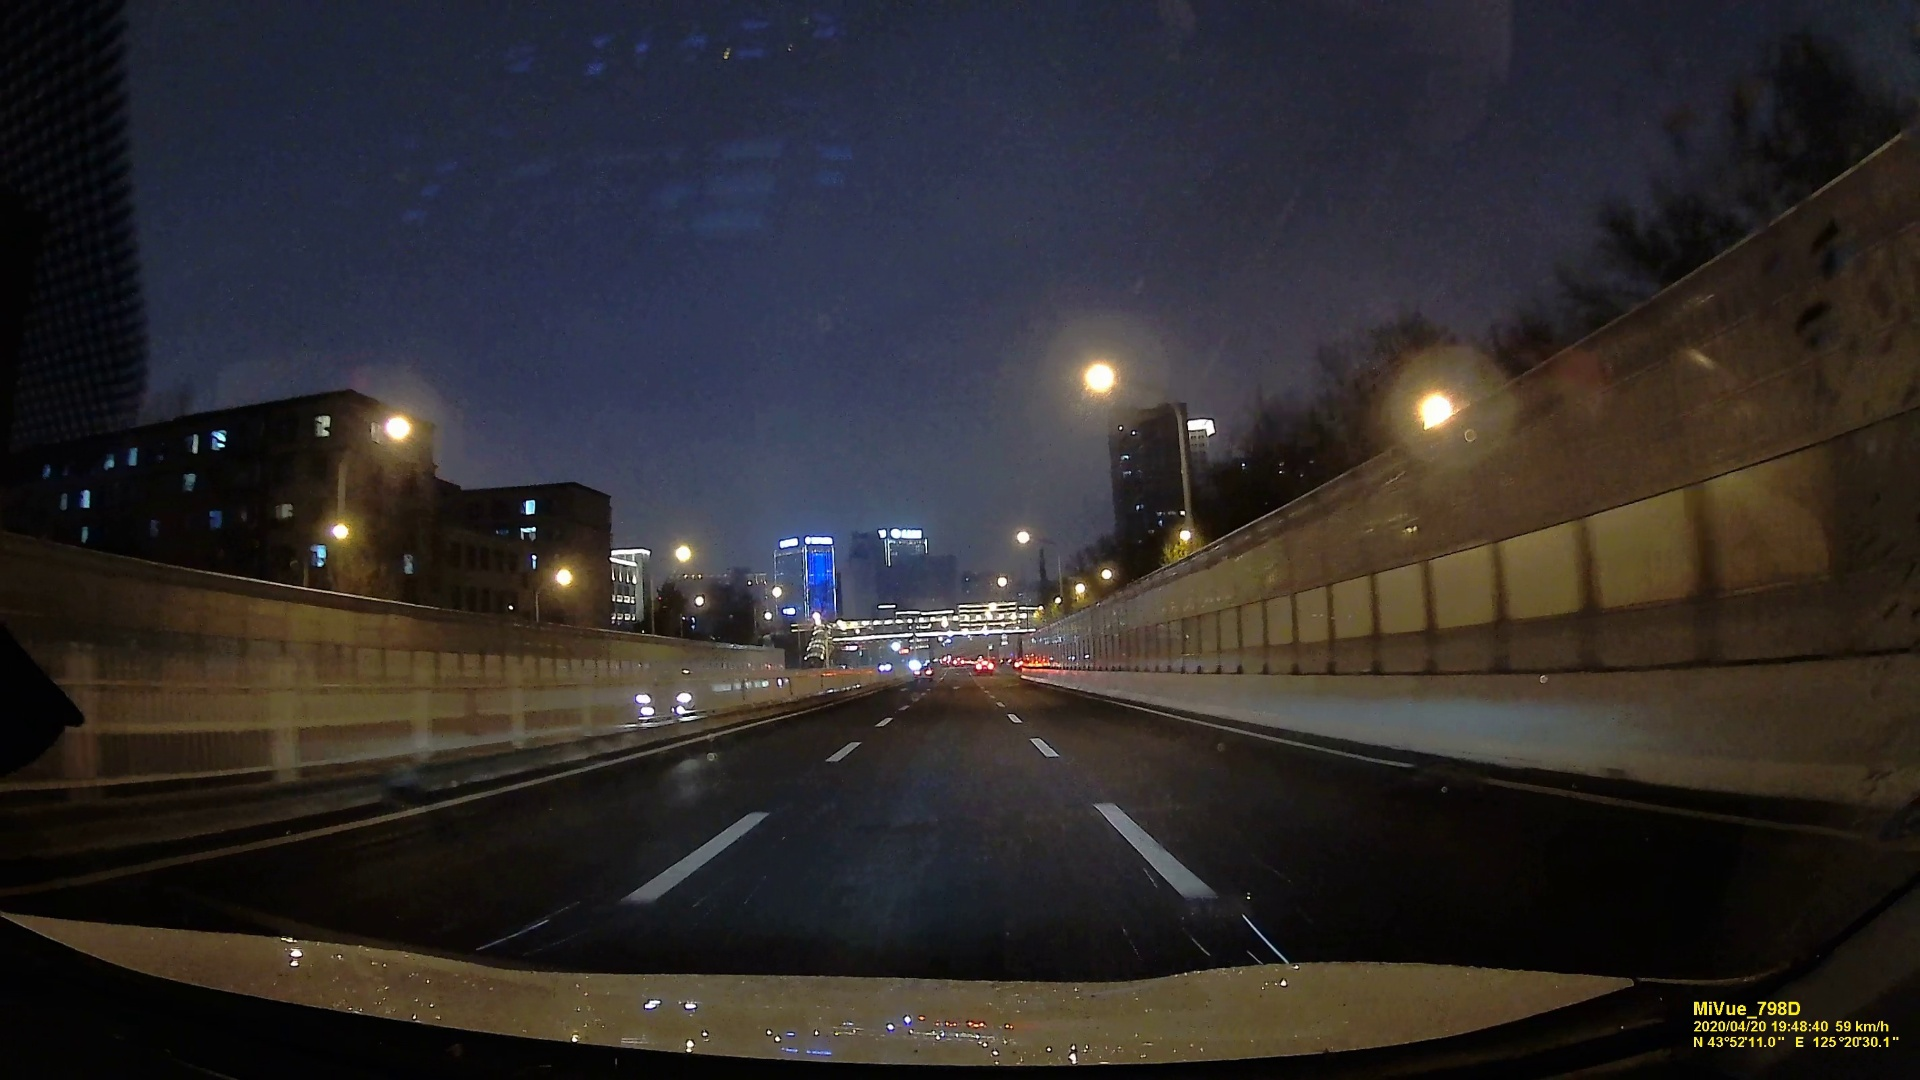vehicle: (633, 669, 712, 719), (914, 665, 934, 682)
